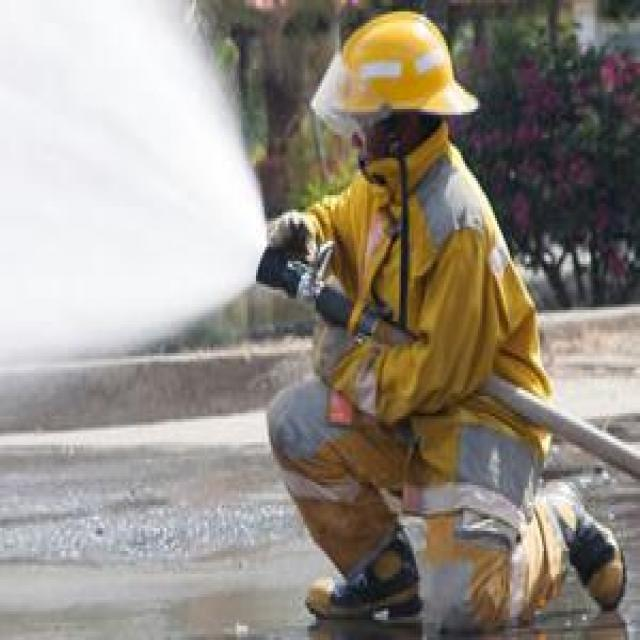Reflective-Jacket: (284, 149, 572, 634)
Safety-Helmet: (314, 3, 484, 132)
